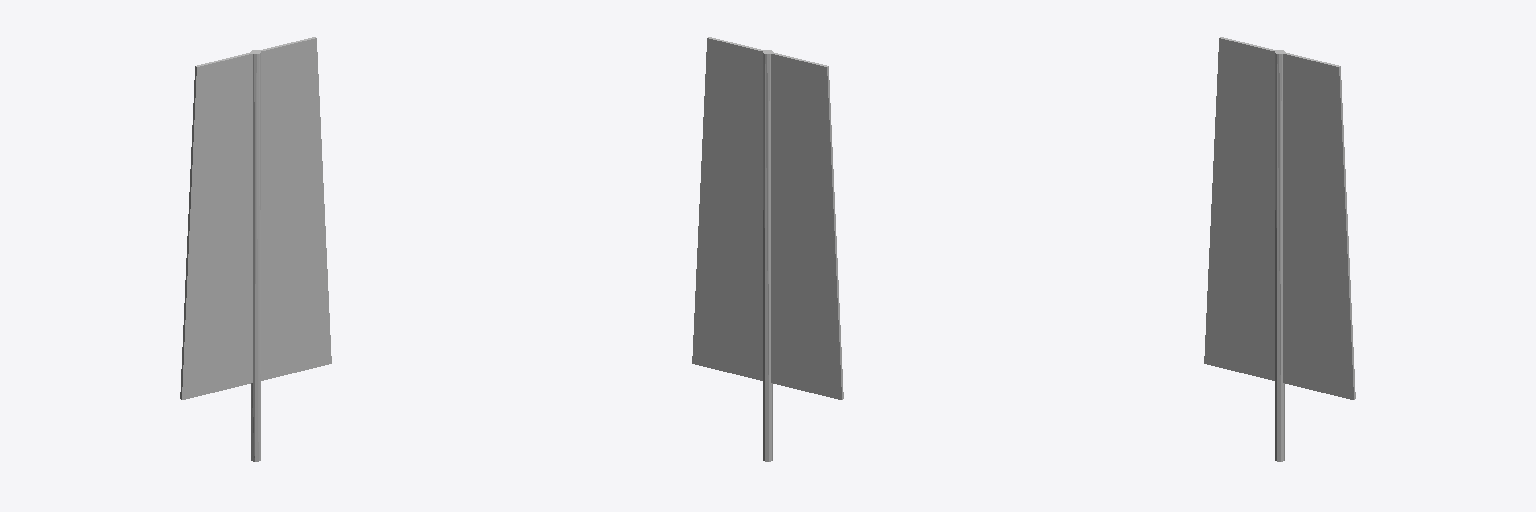
Rendered from Propeller.obj.
The picture shows the model from 3 angles: view 1: azimuth 30°, elevation 25°; view 2: azimuth 150°, elevation 25°; view 3: azimuth 330°, elevation 25°; orthographic projection.
Parts seen in each view (by area): view 1: 1; view 2: 1; view 3: 1.
Boxes of the visible parts, box(x1,y1,x2,y2) form: 1: box(180, 37, 331, 461); 1: box(692, 37, 843, 461); 1: box(1204, 37, 1355, 461).
Size of the model in its own units: 100 by 260 by 6.